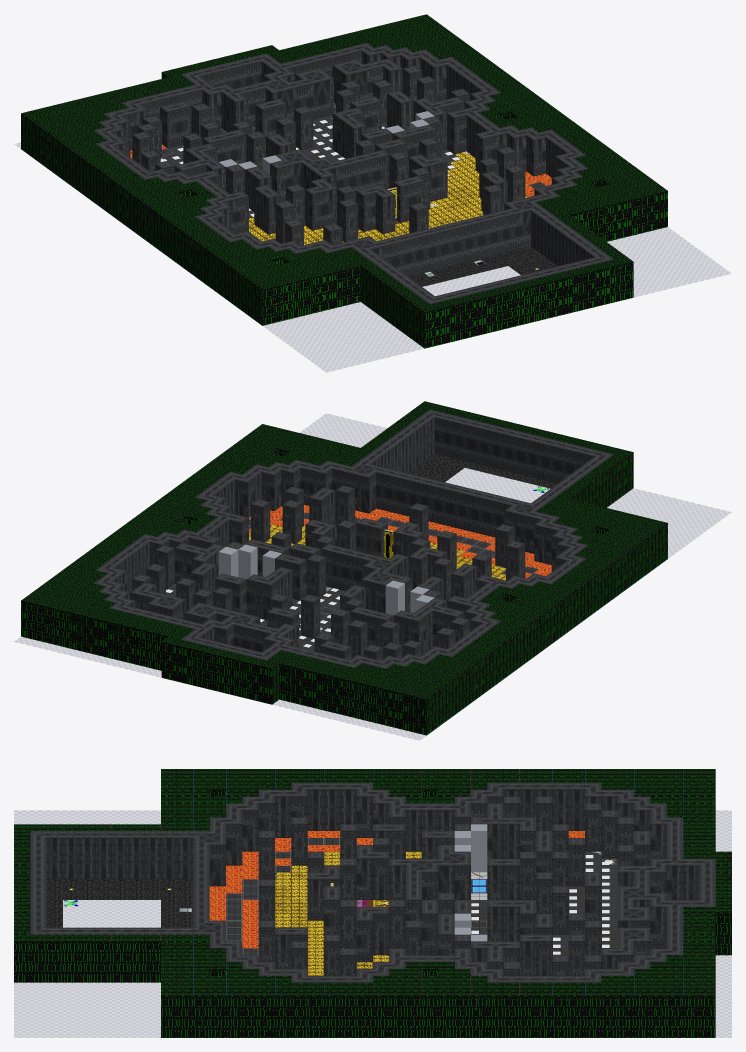
Rendered from clown_planet.performance.glb.
The picture shows the model from 3 angles, top to bottom: view 1: azimuth 30°, elevation 25°; view 2: azimuth 150°, elevation 25°; view 3: azimuth 270°, elevation 25°; orthographic projection. The views are drawn at different scales.
Parts seen in each view (by area): view 1: Wall tiles, Floor tiles, Asteroid tiles, Objects - merged; view 2: Wall tiles, Floor tiles, Asteroid tiles, Plating tiles; view 3: Wall tiles, Floor tiles, Asteroid tiles, Plating tiles, Objects - merged.
Boxes of the visible parts, x1=… form: Wall tiles: x1=21, y1=14, x2=667, y2=348; Floor tiles: x1=15, y1=115, x2=730, y2=371; Asteroid tiles: x1=408, y1=246, x2=557, y2=286; Objects - merged: x1=160, y1=105, x2=538, y2=276; Wall tiles: x1=21, y1=401, x2=667, y2=735; Floor tiles: x1=15, y1=414, x2=730, y2=739; Asteroid tiles: x1=408, y1=453, x2=557, y2=488; Plating tiles: x1=166, y1=512, x2=538, y2=619; Wall tiles: x1=14, y1=769, x2=731, y2=1037; Floor tiles: x1=14, y1=811, x2=731, y2=1037; Asteroid tiles: x1=46, y1=879, x2=193, y2=927; Plating tiles: x1=226, y1=838, x2=487, y2=955; Objects - merged: x1=63, y1=851, x2=615, y2=968.
Bounding box in the file's own units: 33 × 2.84 × 44.
33 materials, 31 textured.
